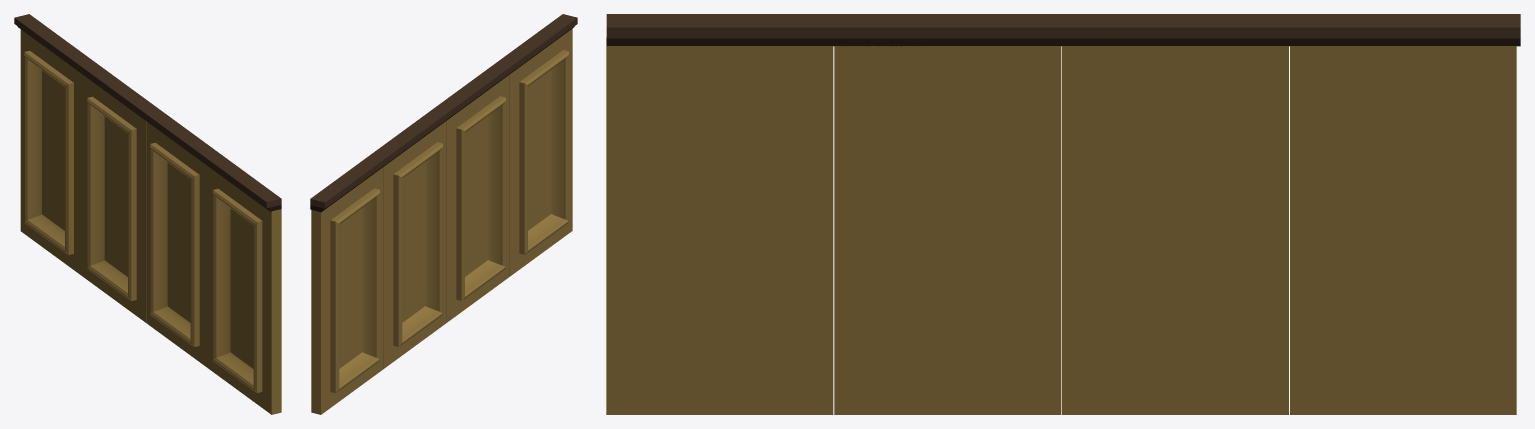
The model's file is BasePared2.fbx.
The picture shows the model from 3 angles, left to right: view 1: azimuth 30°, elevation 25°; view 2: azimuth 150°, elevation 25°; view 3: azimuth 270°, elevation 25°; orthographic projection. The views are drawn at different scales.
Visible parts, largest first — view 1: Pared_Inf2; view 2: Pared_Inf2; view 3: Pared_Inf2.
Part boxes in pixels (left/top/right/bottom): Pared_Inf2: left=14, top=14, right=281, bottom=414; Pared_Inf2: left=310, top=14, right=577, bottom=414; Pared_Inf2: left=606, top=14, right=1520, bottom=414.
Size of the model in its own units: 12.63 by 154 by 330.
